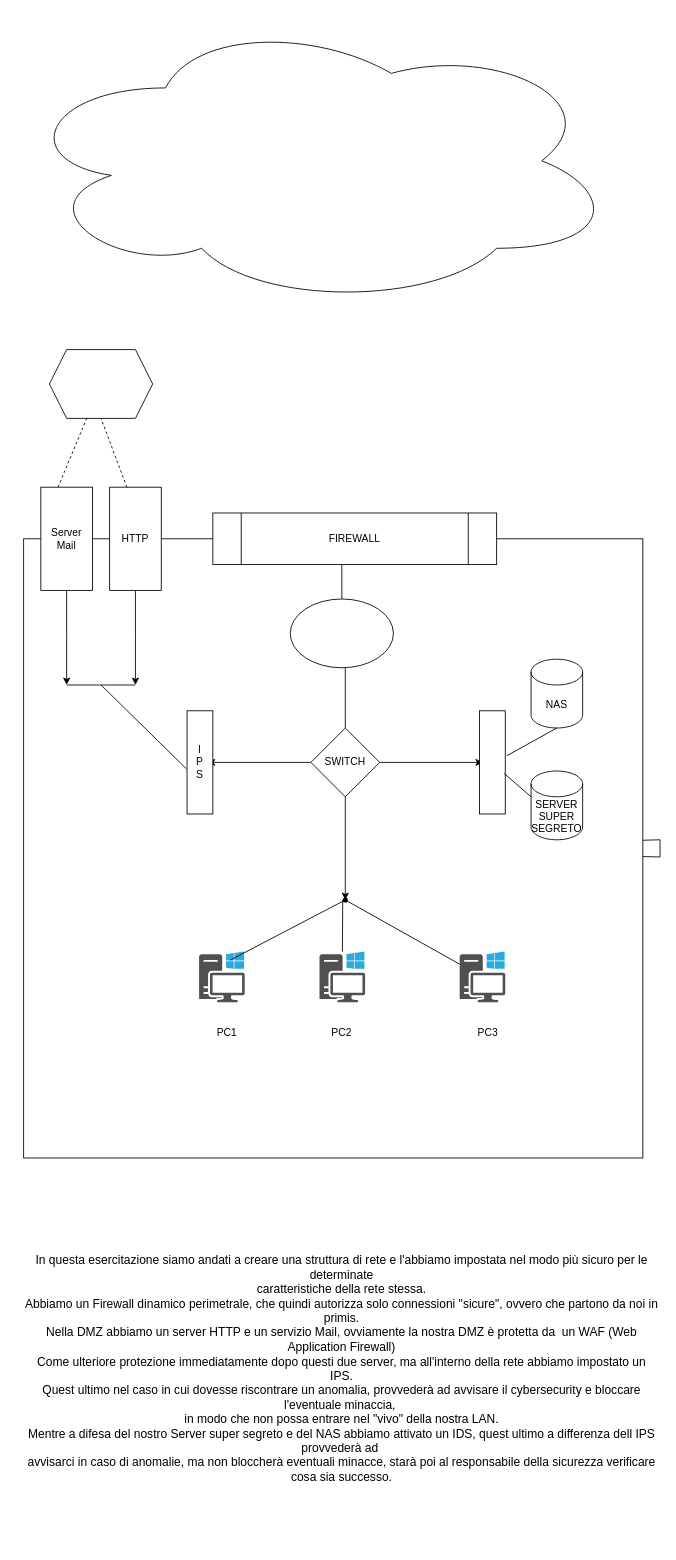
This 676x1560 diagram has some shape labels left out. Here are the shapes that lost their labels. From the top down, the box of each, then its label:
(14, 14, 617, 307): WEB
(49, 349, 153, 418): WAF
(289, 598, 393, 668): ROUTER
(479, 710, 505, 814): I D S
